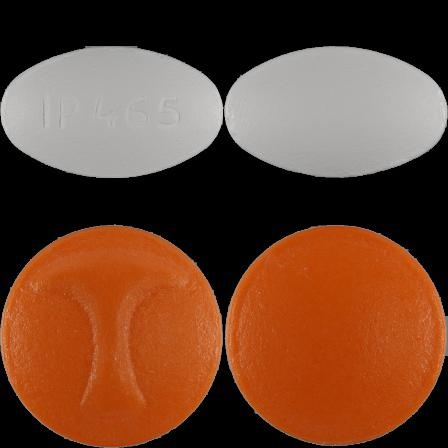63187-527: (0, 0, 224, 224)
